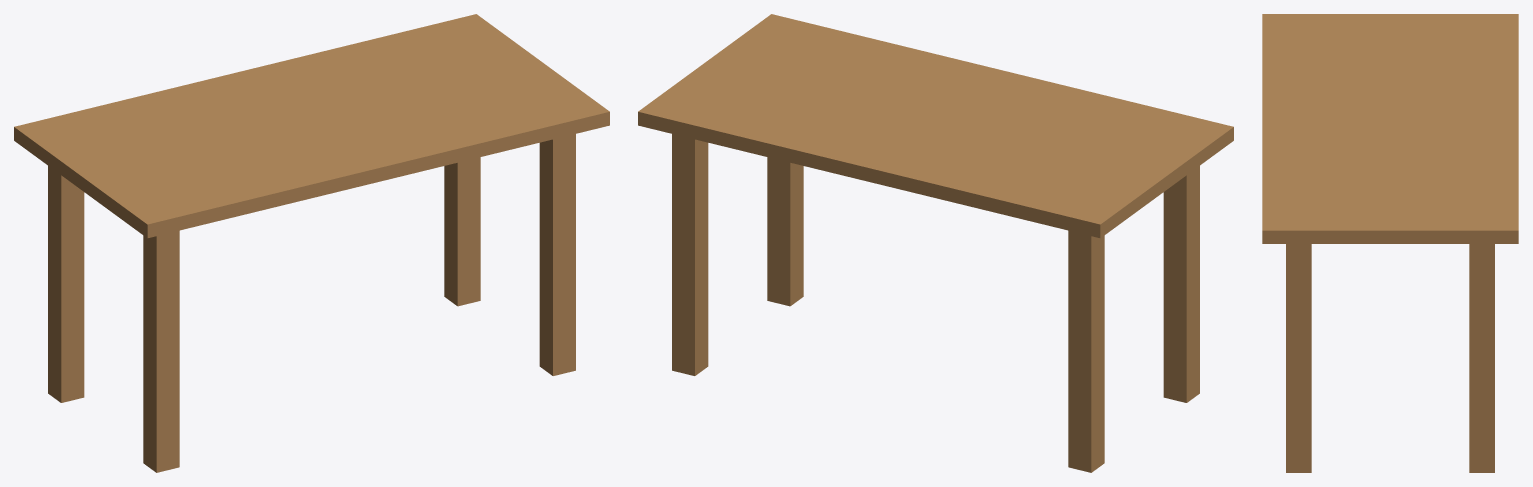
3 renders of one model, left to right at view 1: azimuth 30°, elevation 25°; view 2: azimuth 150°, elevation 25°; view 3: azimuth 270°, elevation 25°, orthographic. The views are drawn at different scales.
Visible parts, largest first — view 1: mesa_of2_s0; view 2: mesa_of2_s0; view 3: mesa_of2_s0.
Part boxes in pixels (x1,y1,x2,y2): mesa_of2_s0: [14, 14, 609, 472]; mesa_of2_s0: [638, 14, 1233, 472]; mesa_of2_s0: [1262, 14, 1518, 472].
Bounding box in the file's own units: 1.4 × 0.7 × 0.76.
